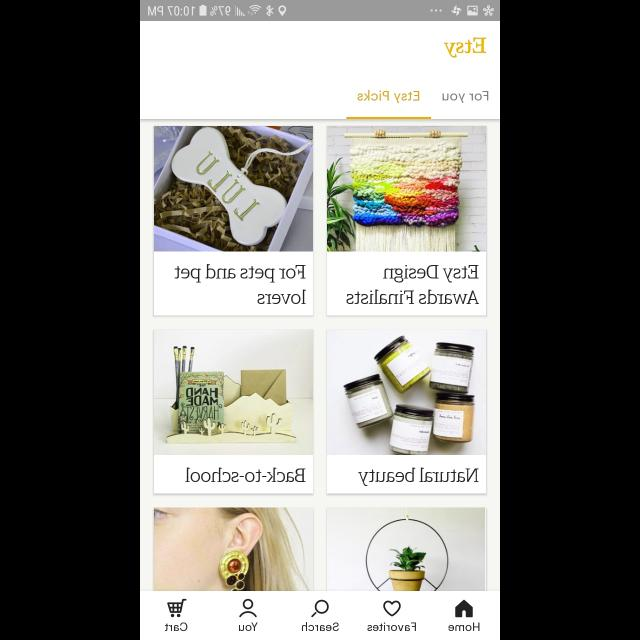icon: (168, 598, 186, 618), (239, 598, 257, 618), (311, 599, 329, 617), (455, 599, 473, 617), (383, 600, 401, 616)
image: (154, 126, 314, 252), (328, 126, 487, 252), (154, 330, 314, 454), (326, 330, 486, 454), (326, 508, 486, 590), (154, 508, 312, 590)
text: (174, 264, 306, 304), (346, 265, 478, 305), (358, 468, 478, 487), (186, 466, 306, 482), (442, 38, 486, 58), (357, 90, 419, 104), (442, 91, 488, 103), (368, 622, 417, 632), (448, 622, 479, 632), (302, 622, 338, 630), (238, 622, 258, 632), (165, 623, 187, 631)
uppertaskbar: (140, 1, 500, 22)
